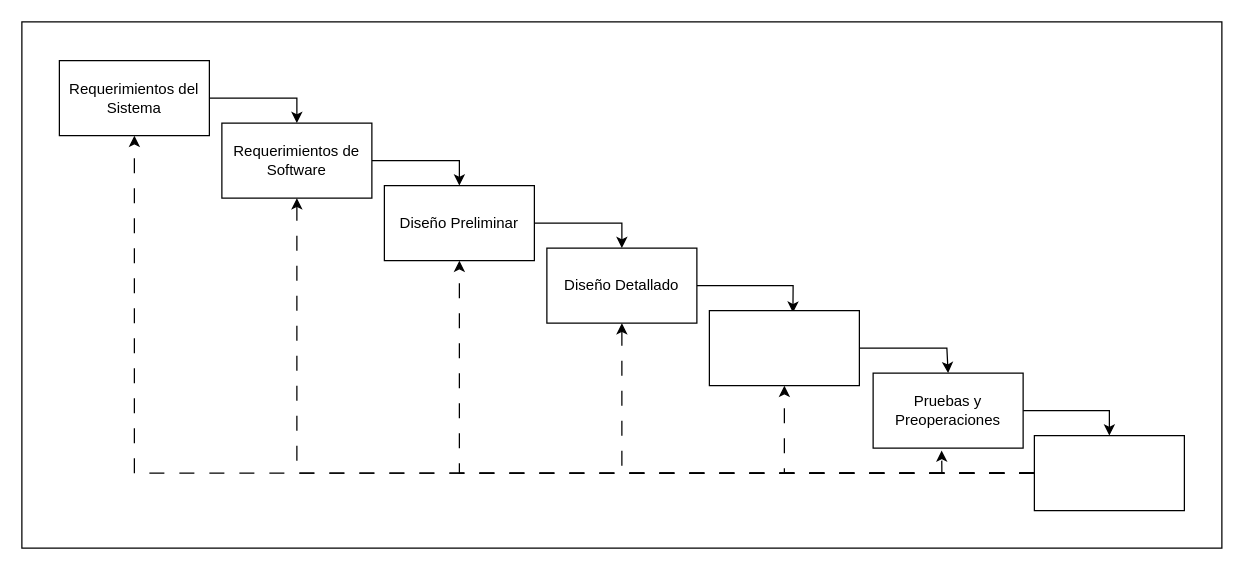
The diagram is 1244 pixels wide and 570 high, and some of its shapes have lost their labels. The centre of each missing label's shape, as x and y in pixels:
Codificación: (783,347)
Operaciones y Mantenimiento: (1108,472)
